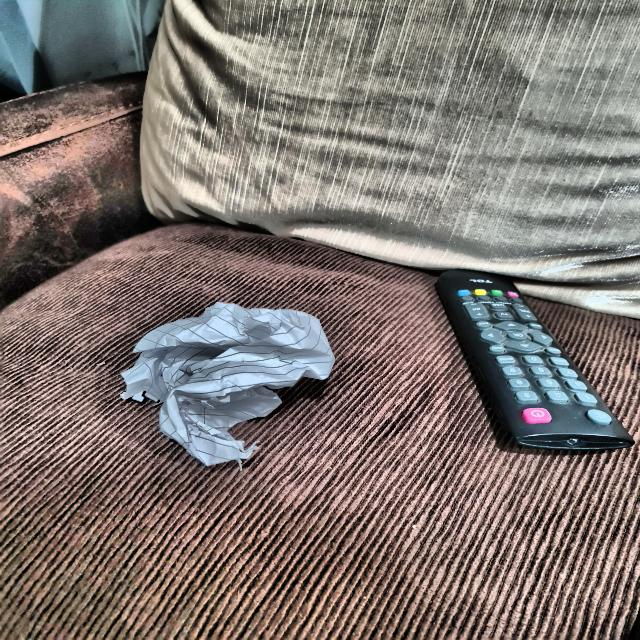Paper: (117, 302, 333, 459)
